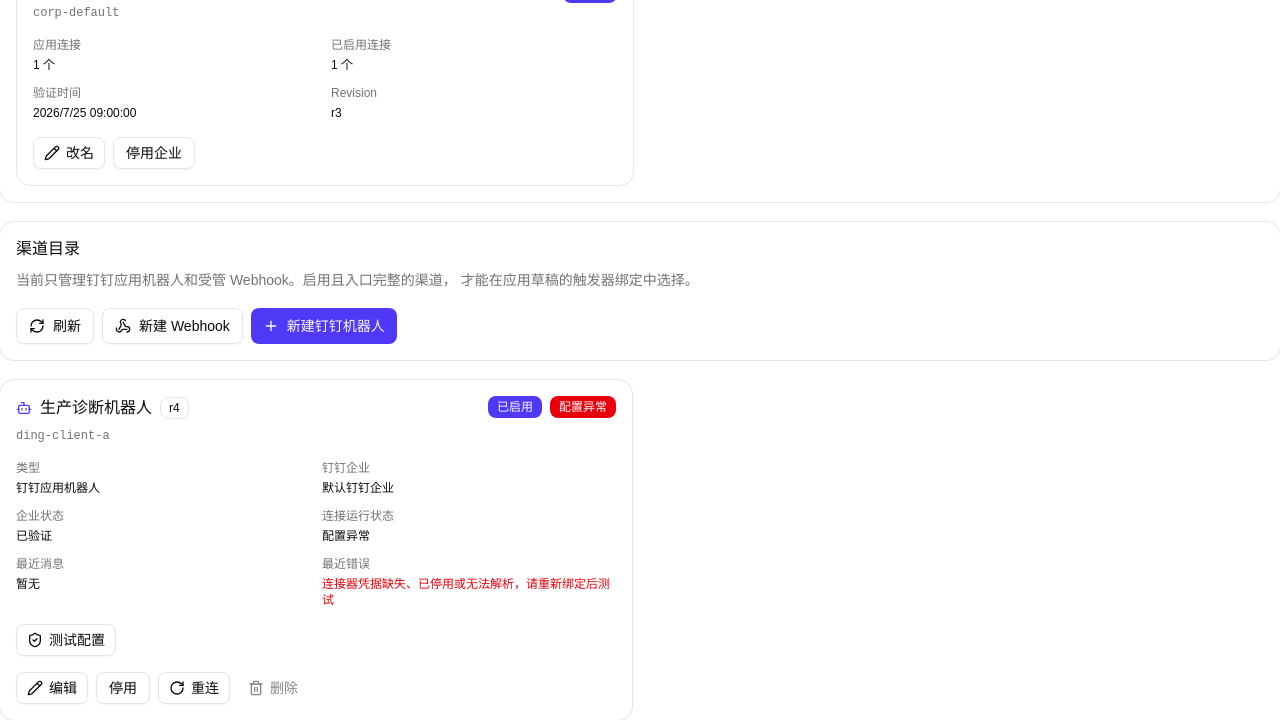
Managed channels › shows MISCONFIGURED safely and tests only the saved credential reference
The image size is (1280, 720).
(page scrolled)
expect the text "配置异常" is shown 2 times: met, box [550,396,616,418]; [322,529,370,543]
expect the text "连接器凭据缺失、已停用或无法解析，请重新绑定后测试" is shown: met, box [322,576,616,608]
Click the button "测试配置".
click(66, 640)  # box [16,624,116,656]
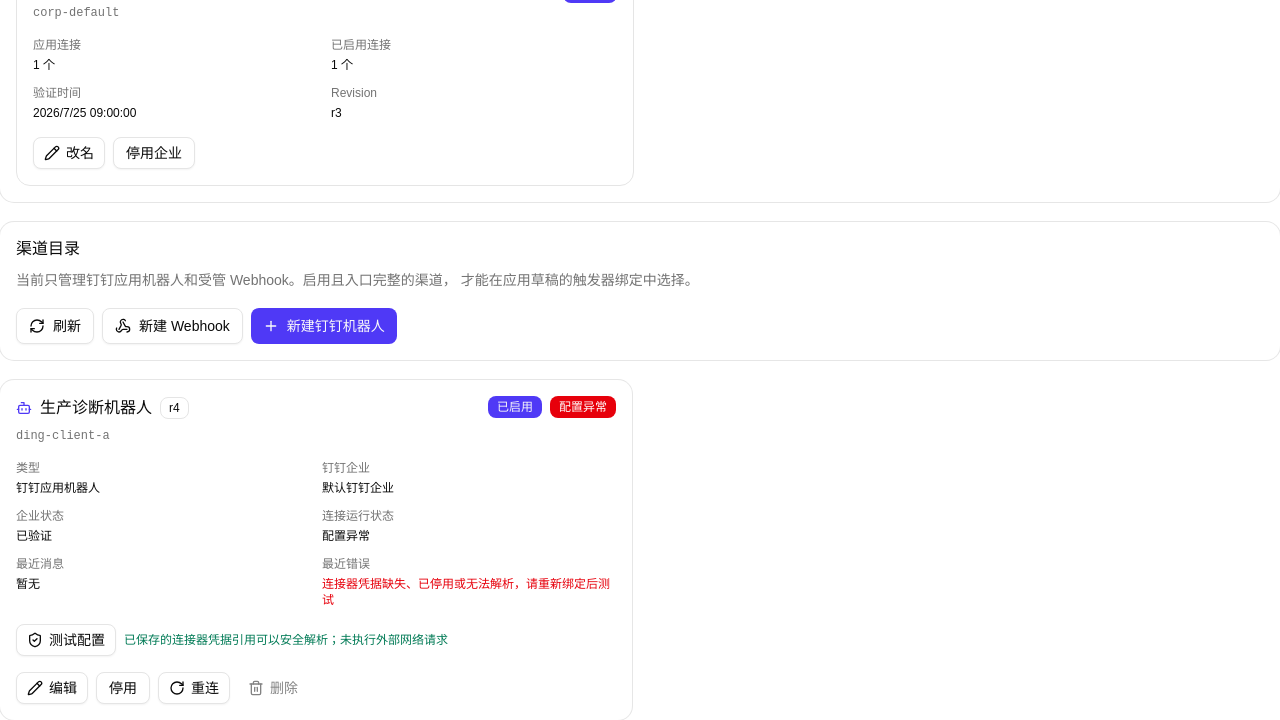
expect the text "已保存的连接器凭据引用可以安全解析；未执行外部网络请求" is shown: met, box [124,632,448,648]
Click the button "编辑".
click(52, 688)  # box [16,672,88,704]
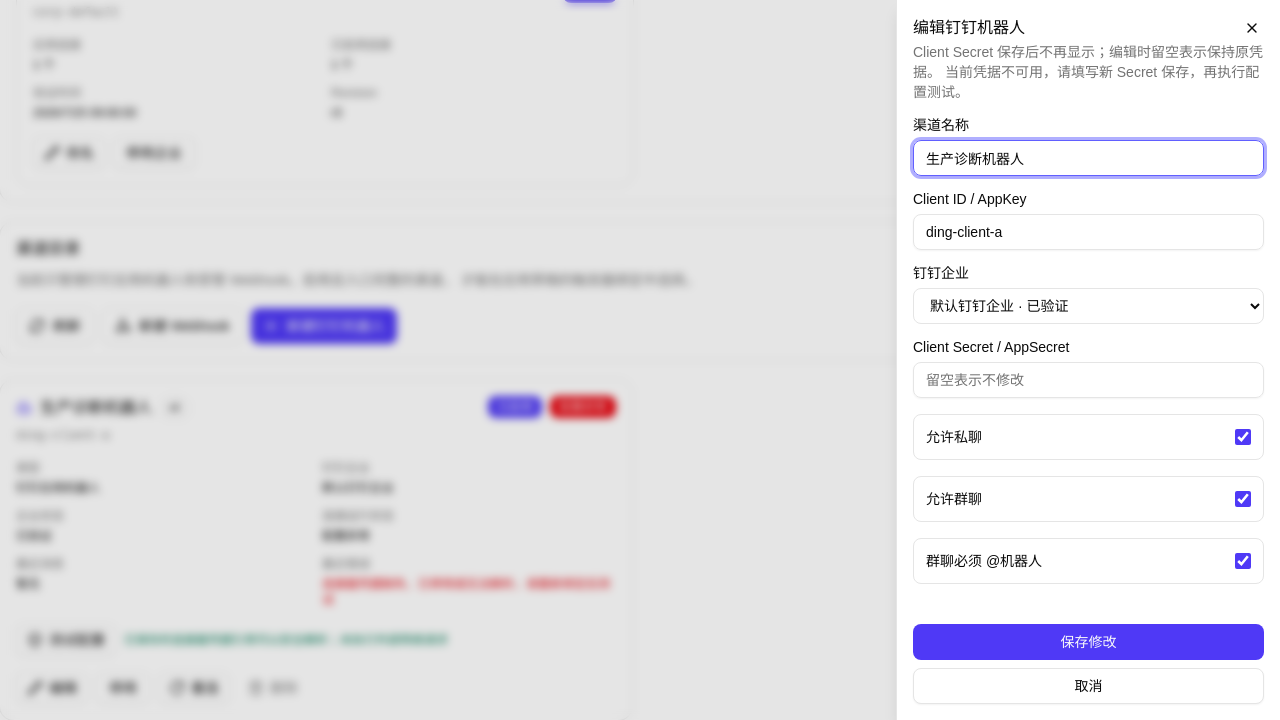
expect the text "当前凭据不可用，请填写新 Secret 保存" is shown: met, box [913,64,1259,100]
